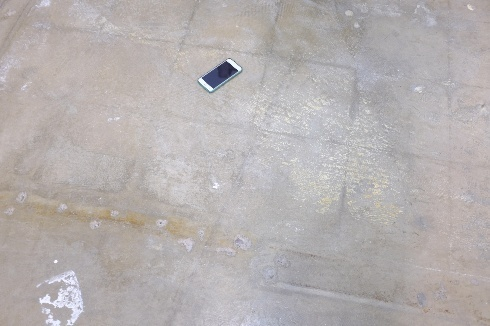phone: (196, 58, 245, 90)
